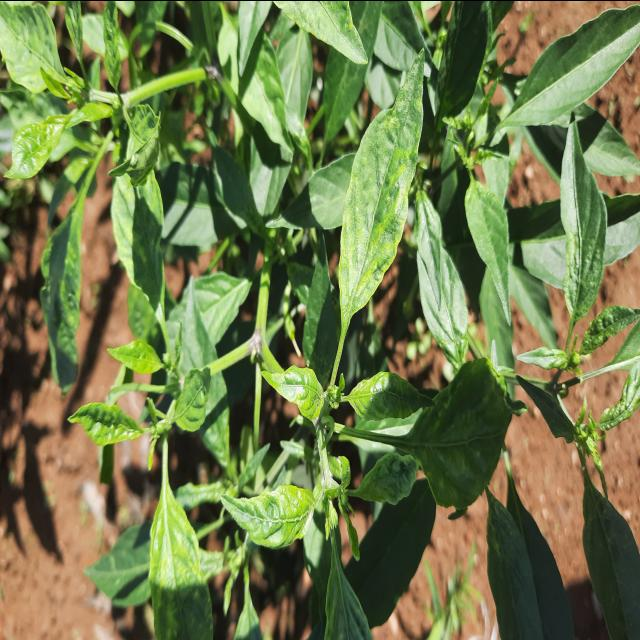thrips: (336, 45, 442, 352), (203, 450, 317, 574), (139, 483, 209, 640)
